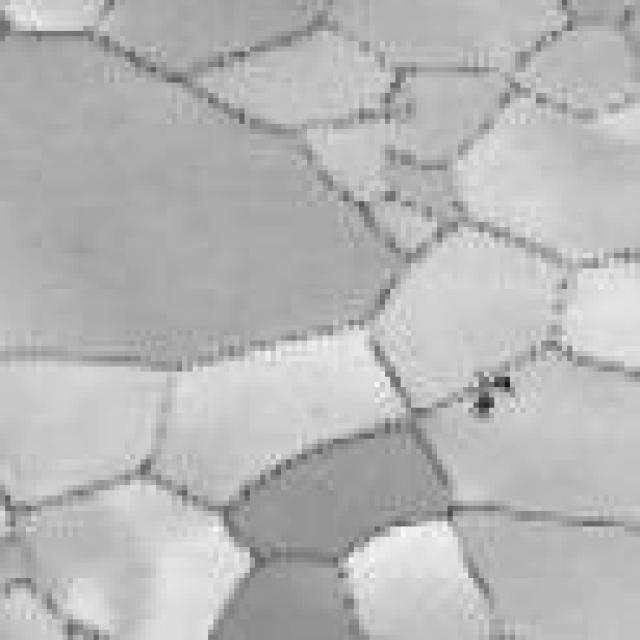good_void: (471, 391, 493, 415), (491, 371, 513, 393)
